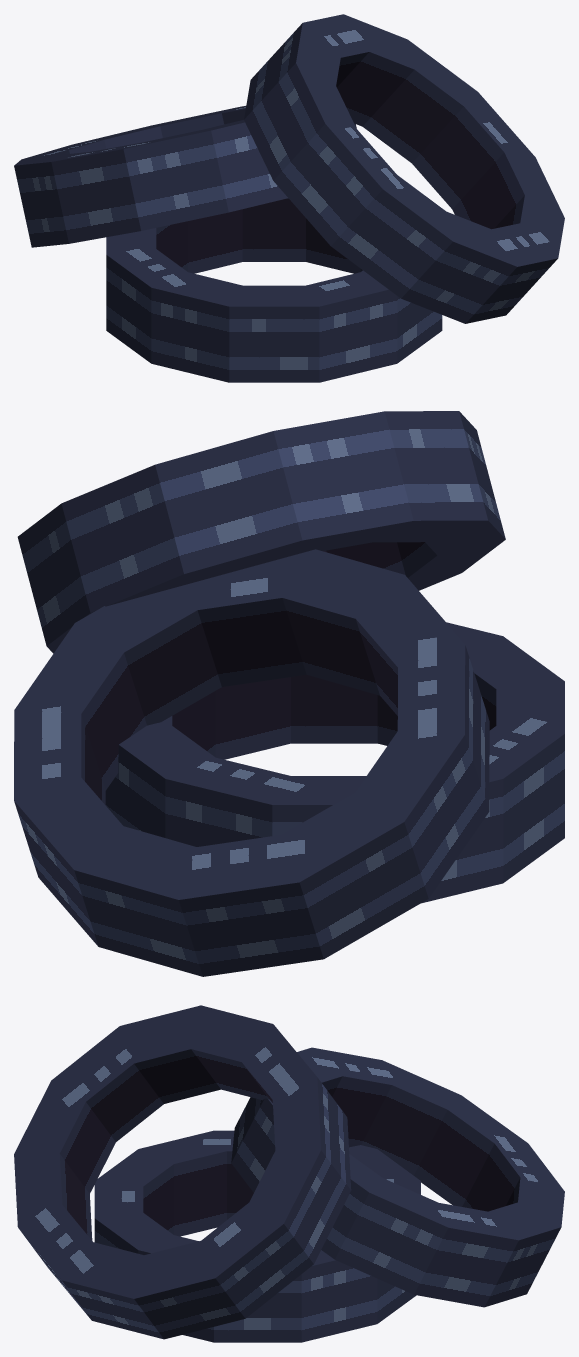
Rendered from Pneus.fbx.
3 renders of one model, top to bottom at view 1: azimuth 30°, elevation 25°; view 2: azimuth 150°, elevation 25°; view 3: azimuth 270°, elevation 25°, orthographic. The views are drawn at different scales.
Visible parts, largest first — view 1: tube_2, tube, tube_1; view 2: tube_1, tube_2, tube; view 3: tube_2, tube_1, tube.
Boxes of the visible parts, left/top/right/bottom form: tube_2: left=244, top=14, right=564, bottom=323; tube: left=106, top=198, right=442, bottom=382; tube_1: left=14, top=106, right=356, bottom=247; tube_1: left=14, top=549, right=489, bottom=976; tube_2: left=17, top=411, right=505, bottom=653; tube: left=105, top=622, right=564, bottom=903; tube_2: left=14, top=1005, right=351, bottom=1339; tube_1: left=231, top=1047, right=564, bottom=1307; tube: left=94, top=1130, right=420, bottom=1342.
Size of the model in its own units: 51.39 by 34.61 by 63.26.
1 material, 1 textured.
